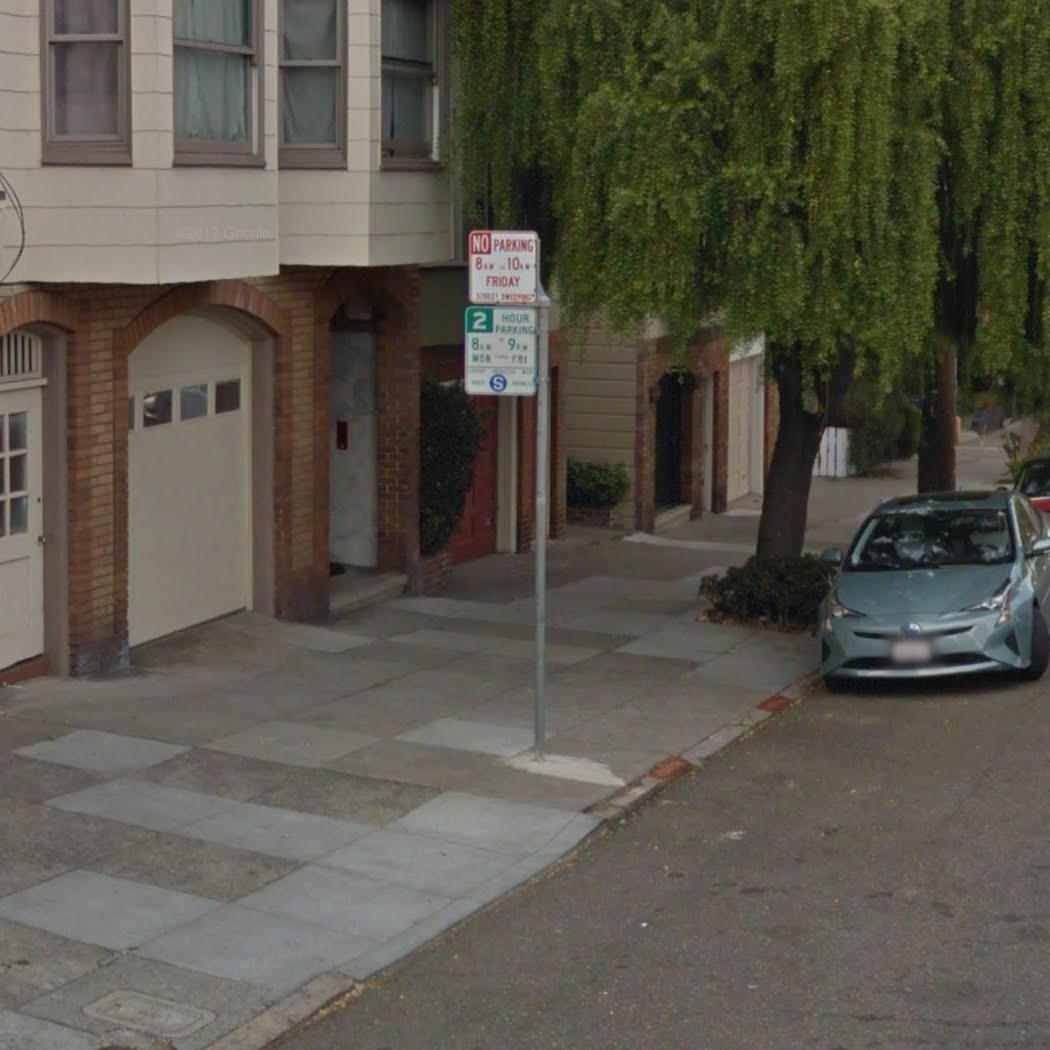2 Hour Parking: (459, 303, 543, 400)
No Parking: (464, 224, 545, 311)
